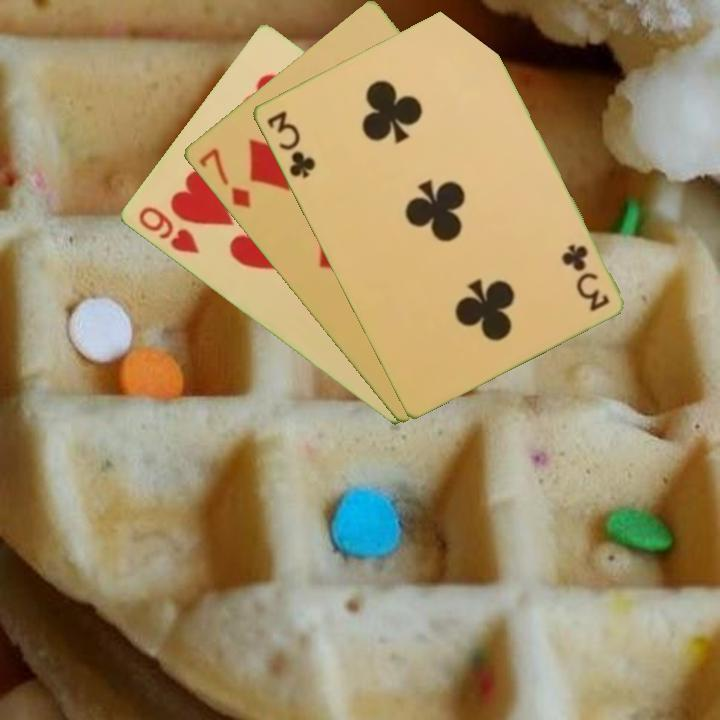3c: (263, 107, 318, 181), (559, 240, 612, 314)
7d: (194, 144, 254, 212)
9h: (134, 203, 202, 257)
